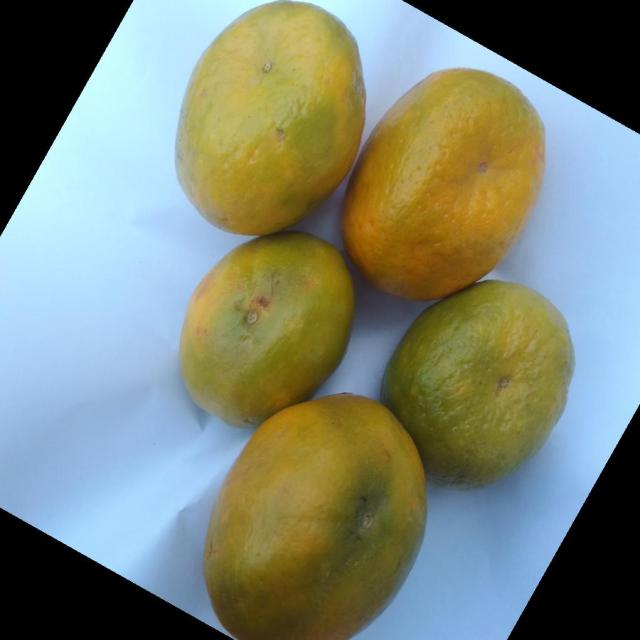fresh orange: (202, 392, 428, 638), (341, 65, 546, 301), (173, 0, 366, 236), (380, 278, 574, 489), (178, 230, 354, 428)
